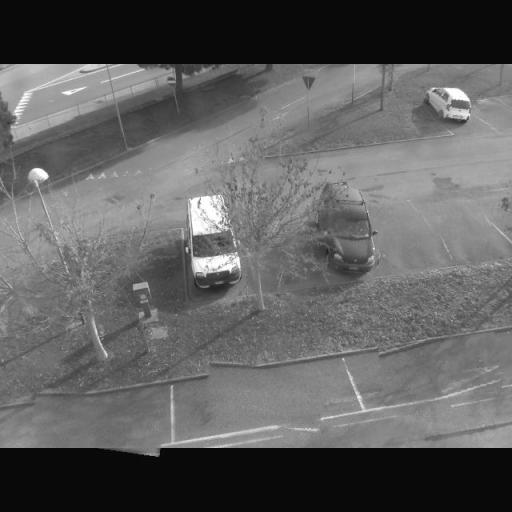busy: (302, 184, 388, 280), (420, 86, 478, 126)
free: (30, 391, 165, 452), (203, 363, 327, 429), (379, 336, 501, 403), (380, 207, 434, 276), (436, 202, 492, 266), (480, 98, 506, 128)
